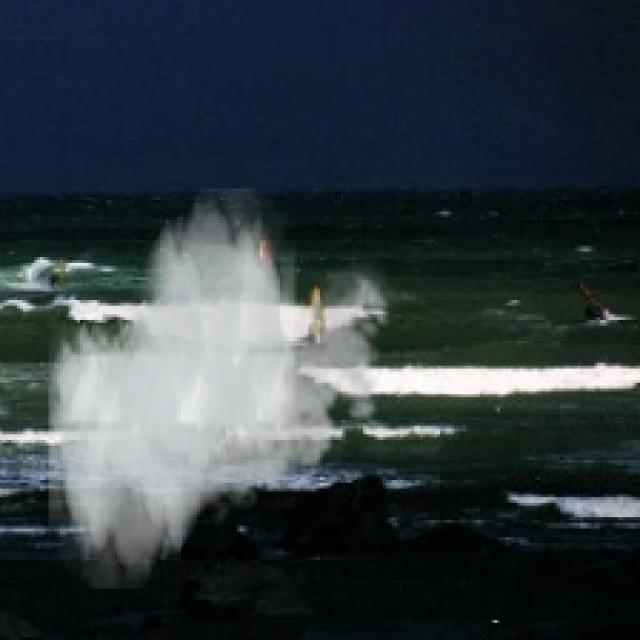Smoke: (48, 188, 400, 588)
